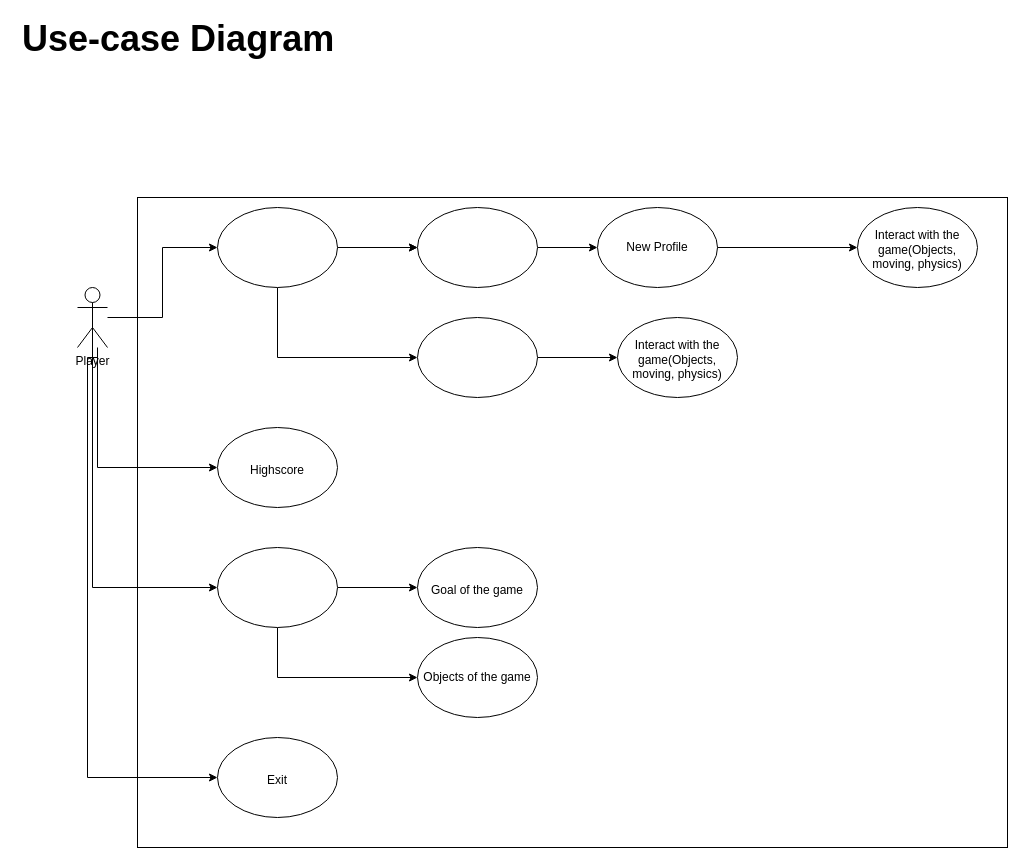
The diagram is 1025 pixels wide and 865 high, and some of its shapes have lost their labels. Each missing label, with the centre of its shape:
Info page: [277,587]
Load game: [477,357]
New Game: [477,247]
Play Game: [277,247]
